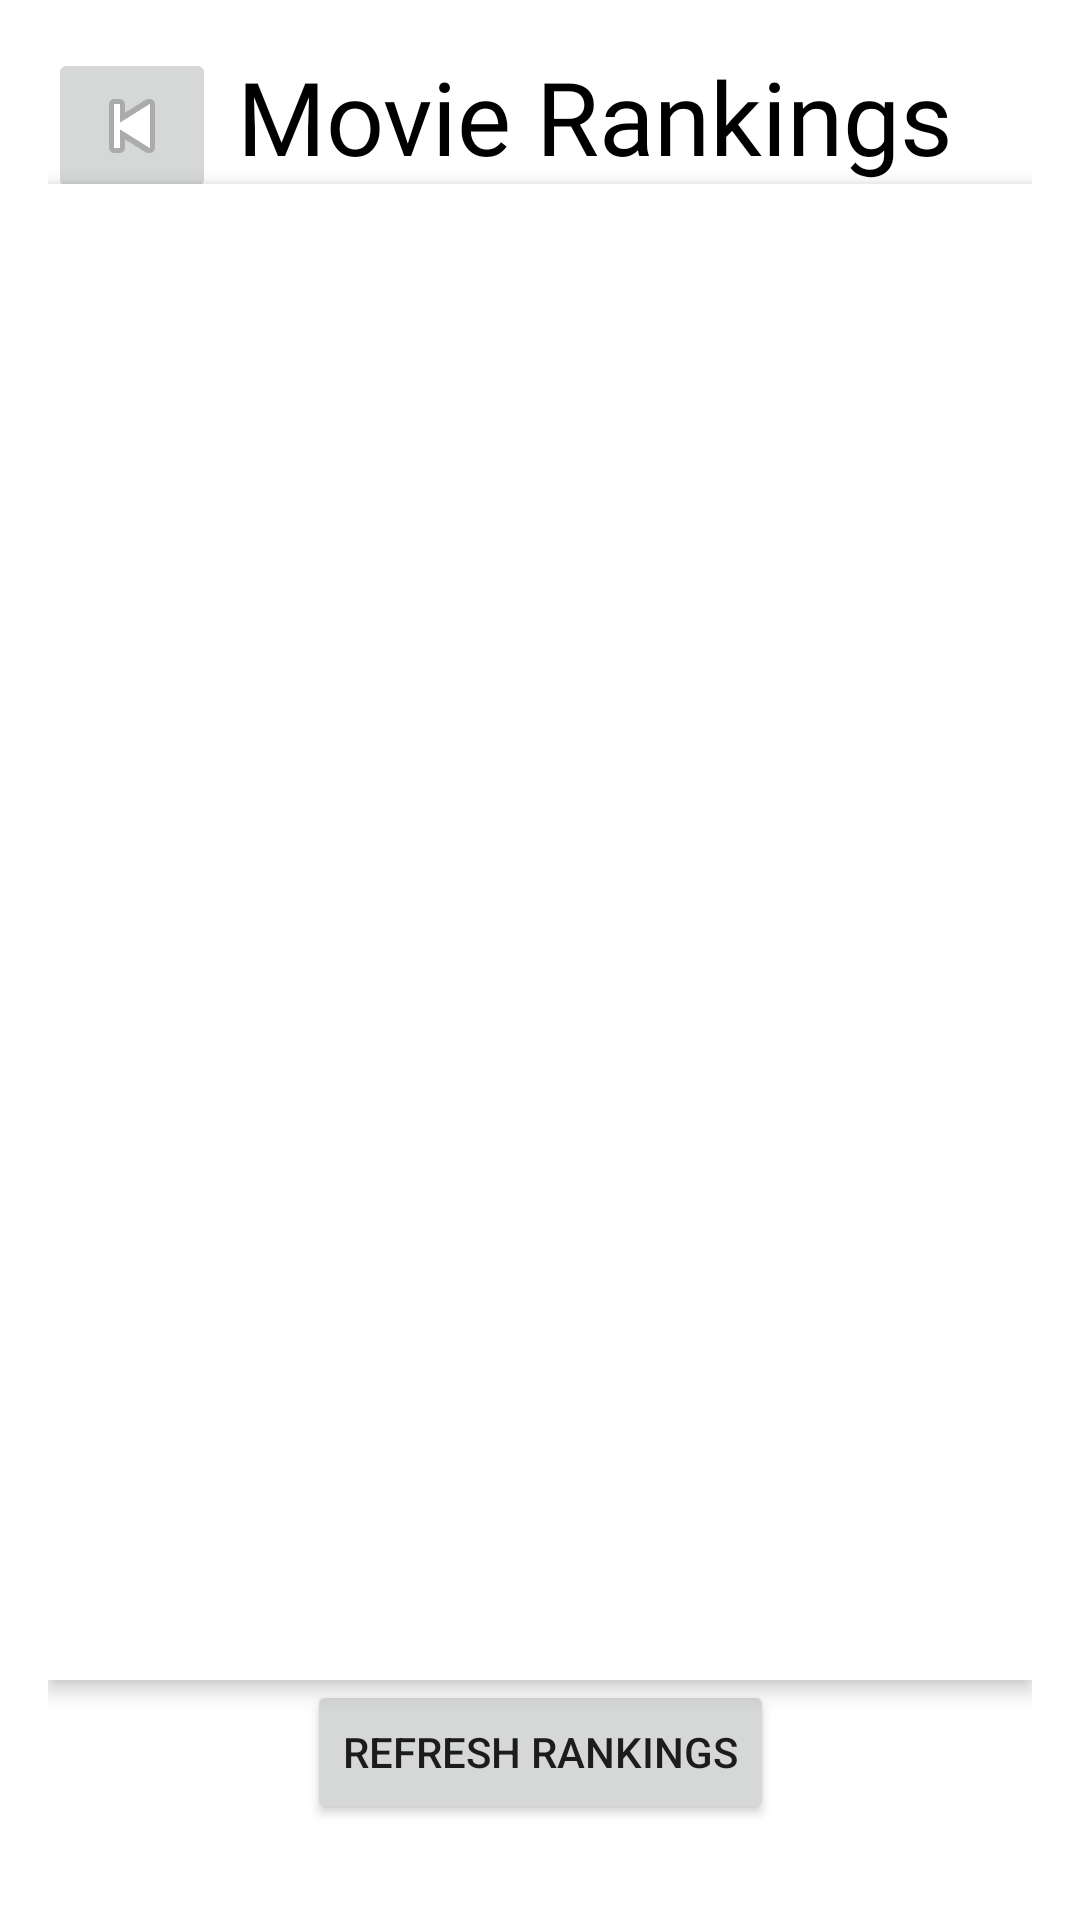

Icon bounding boxes for this 1080px x 1920px phone screenshot, format bbox=(x1, y1, x2, y2):
previous: bbox=(60, 66, 204, 184)
